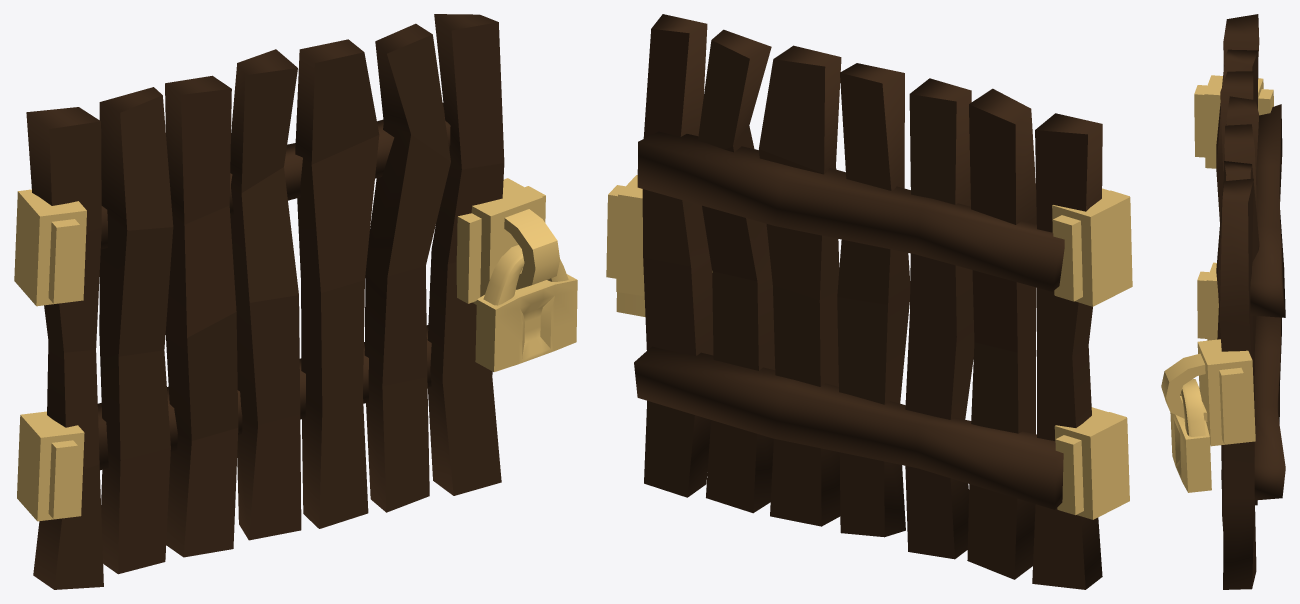
Rendered from mesh_door.fbx.
3 views of the same model, side by side, from view 1: azimuth 30°, elevation 25°; view 2: azimuth 150°, elevation 25°; view 3: azimuth 270°, elevation 25° (orthographic). The views are drawn at different scales.
Parts seen in each view (by area): view 1: Door; view 2: Door; view 3: Door.
Boxes of the visible parts, x1=… form: Door: x1=14, y1=14, x2=577, y2=589; Door: x1=606, y1=14, x2=1132, y2=589; Door: x1=1161, y1=14, x2=1285, y2=589.
Size of the model in its own units: 2.38 by 2.06 by 0.5827.
